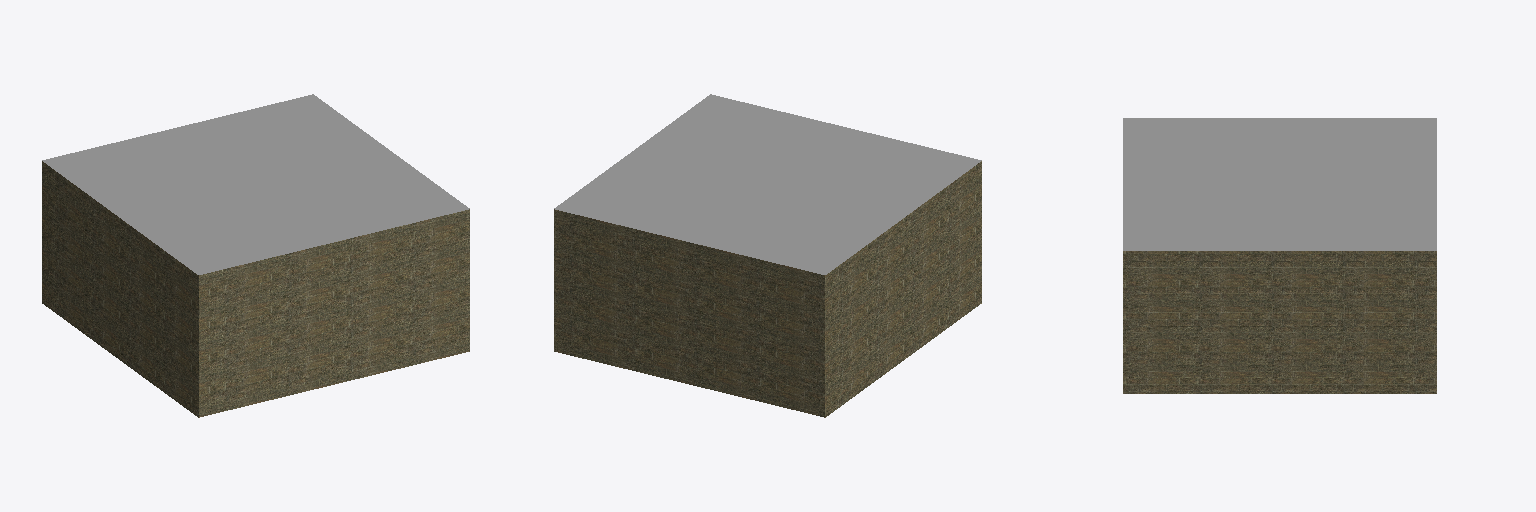
3 views of the same model, side by side, from view 1: azimuth 30°, elevation 25°; view 2: azimuth 150°, elevation 25°; view 3: azimuth 270°, elevation 25° (orthographic).
Visible parts, largest first — view 1: Cube; view 2: Cube; view 3: Cube.
Boxes of the visible parts, x1=… form: Cube: x1=42, y1=94, x2=469, y2=417; Cube: x1=554, y1=94, x2=981, y2=417; Cube: x1=1123, y1=118, x2=1436, y2=393.
Size of the model in its own units: 8.32 by 4.16 by 8.32.
3 materials, 2 textured.